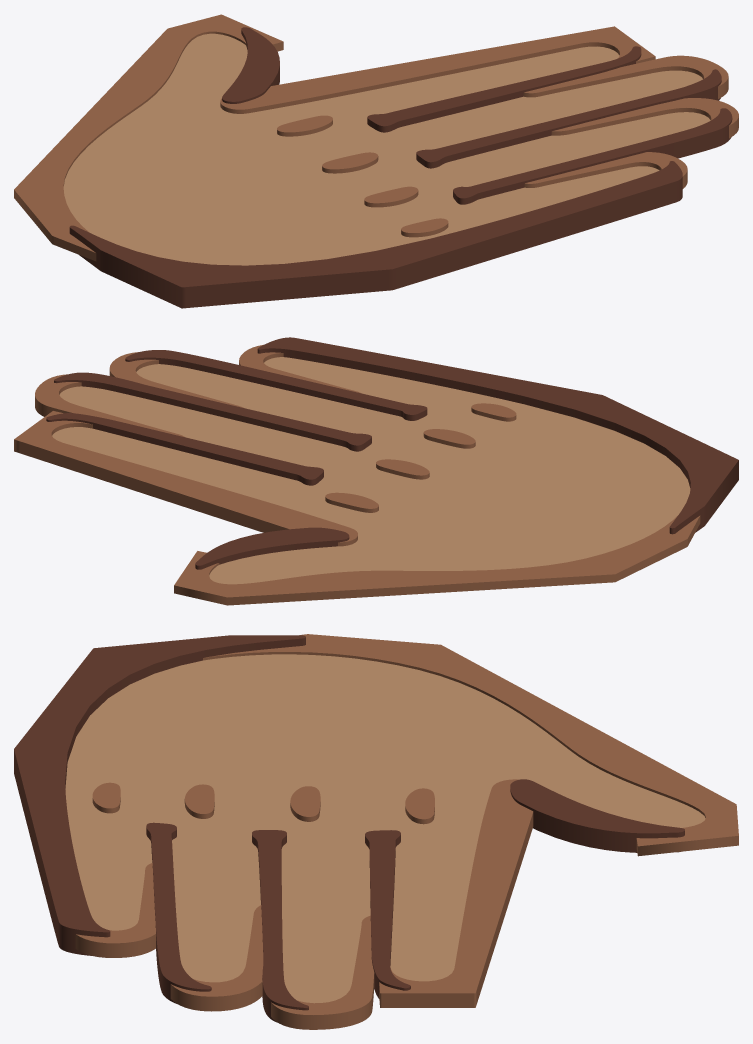
Rendered from emoji_u1faf1_1f3fd.glb.
3 views of the same model, one above another, from view 1: azimuth 30°, elevation 25°; view 2: azimuth 150°, elevation 25°; view 3: azimuth 270°, elevation 25° (orthographic). The views are drawn at different scales.
Visible parts, largest first — view 1: emoji_u1faf1_1f3fd; view 2: emoji_u1faf1_1f3fd; view 3: emoji_u1faf1_1f3fd.
Part boxes in pixels (box(x1,y1,x2,y2)): emoji_u1faf1_1f3fd: box(14, 14, 738, 308); emoji_u1faf1_1f3fd: box(14, 337, 738, 605); emoji_u1faf1_1f3fd: box(14, 634, 738, 1029).
Bounding box in the file's own units: 0.0334 × 0.001 × 0.0267.
